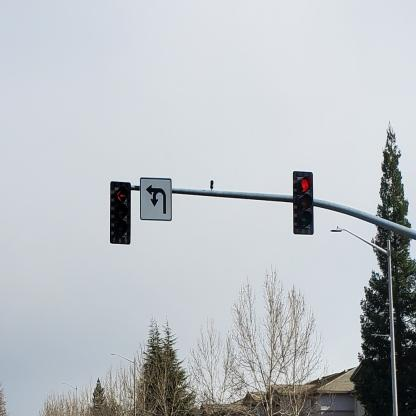left-red: (110, 181, 130, 245)
red: (294, 171, 314, 235)
